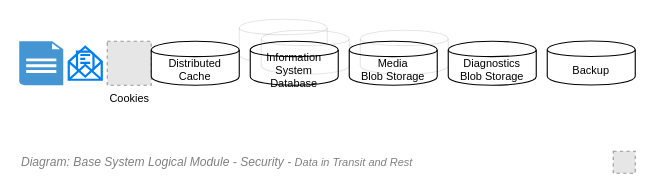
Some shapes in this 655 by 193 pixel diagram are drawn without their labels. Grey dashed boxes stand in for pictures. The centre of each missing label's shape, as x and y in pixels:
"Email" goes at (84,62).
"Reports" goes at (41,63).
